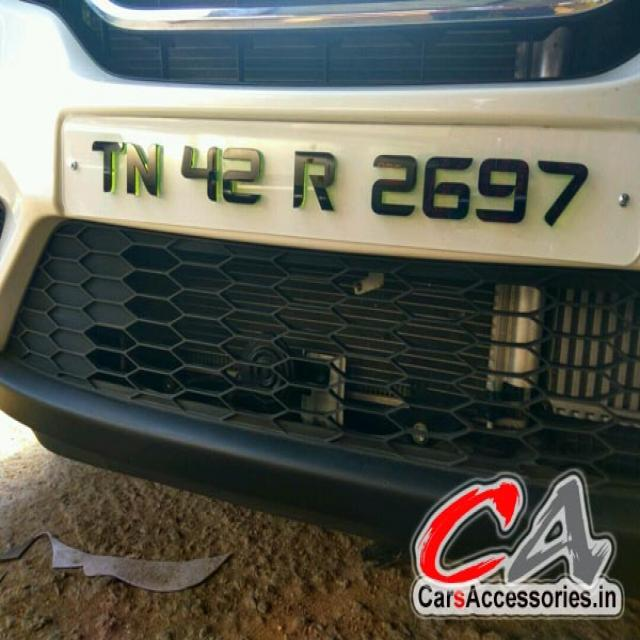license-plate: (56, 111, 638, 267)
